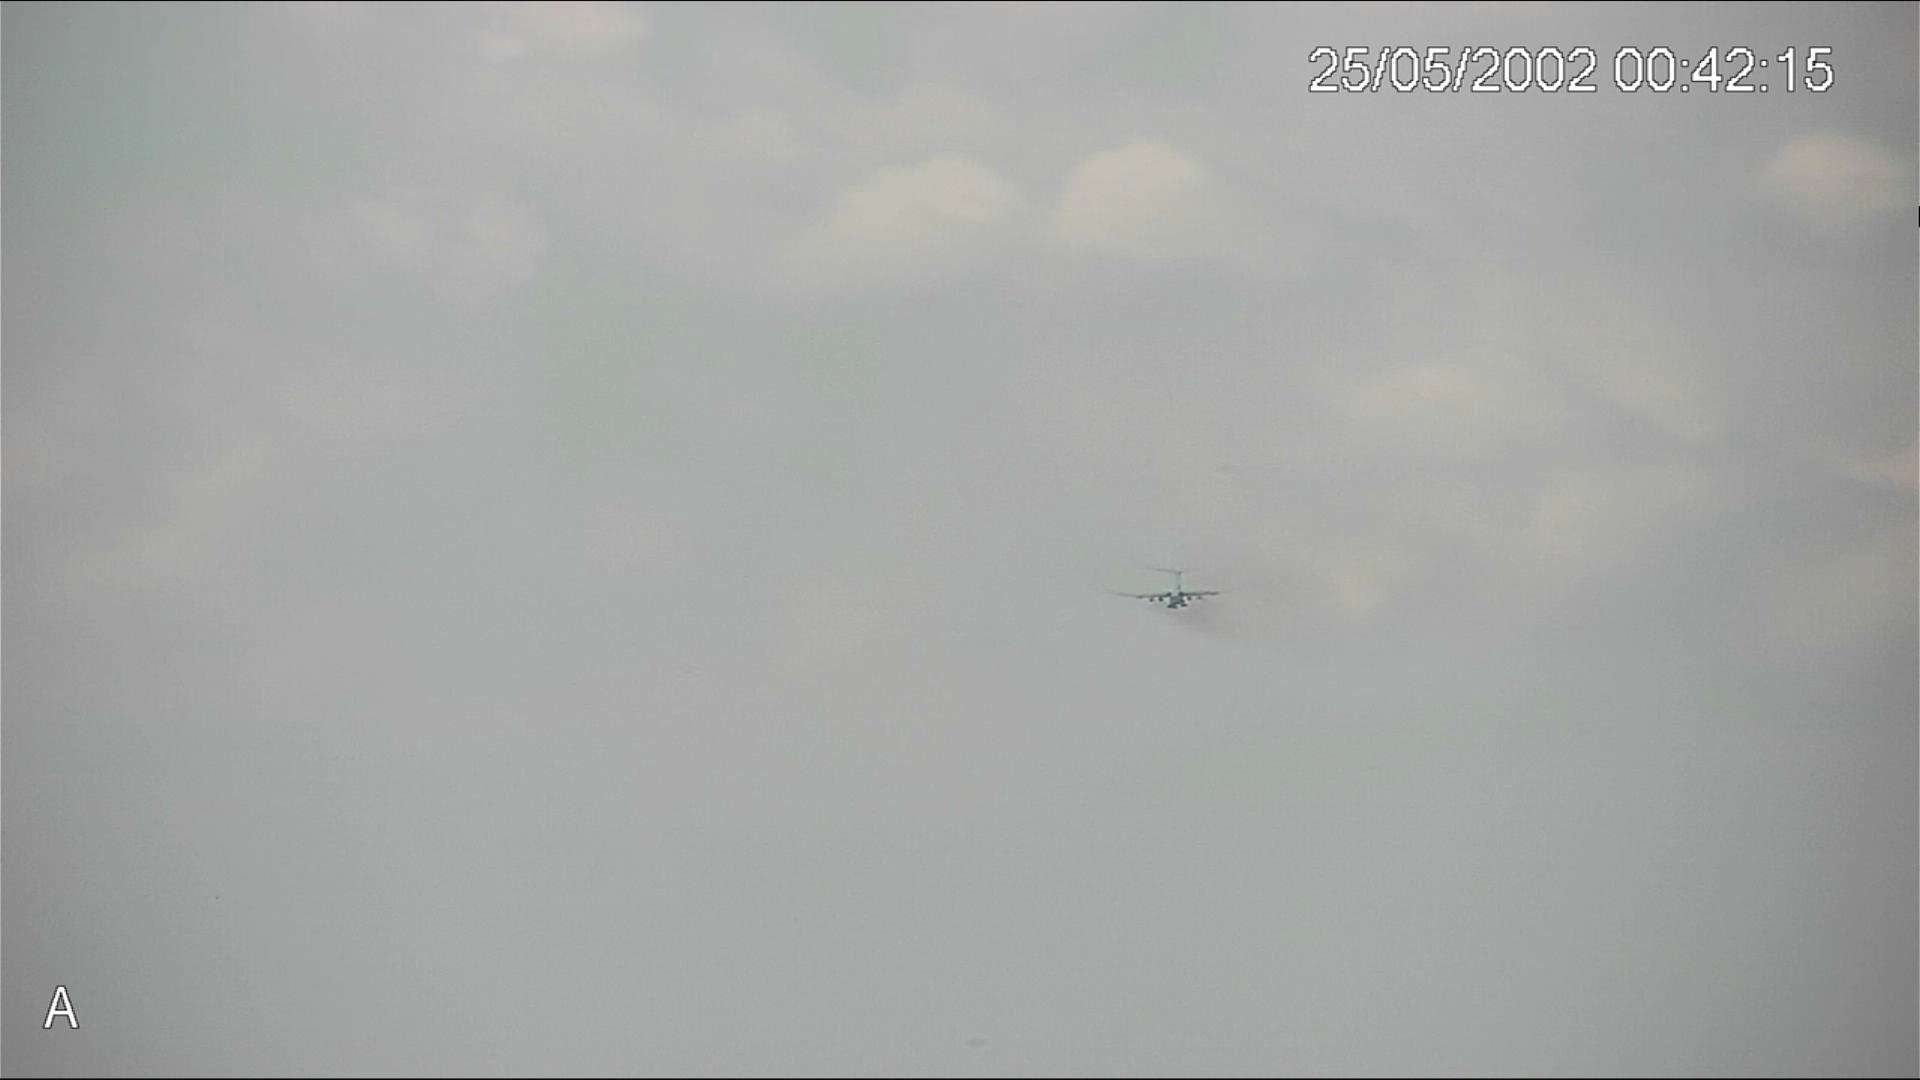SU_30: (1135, 568, 1218, 611)
